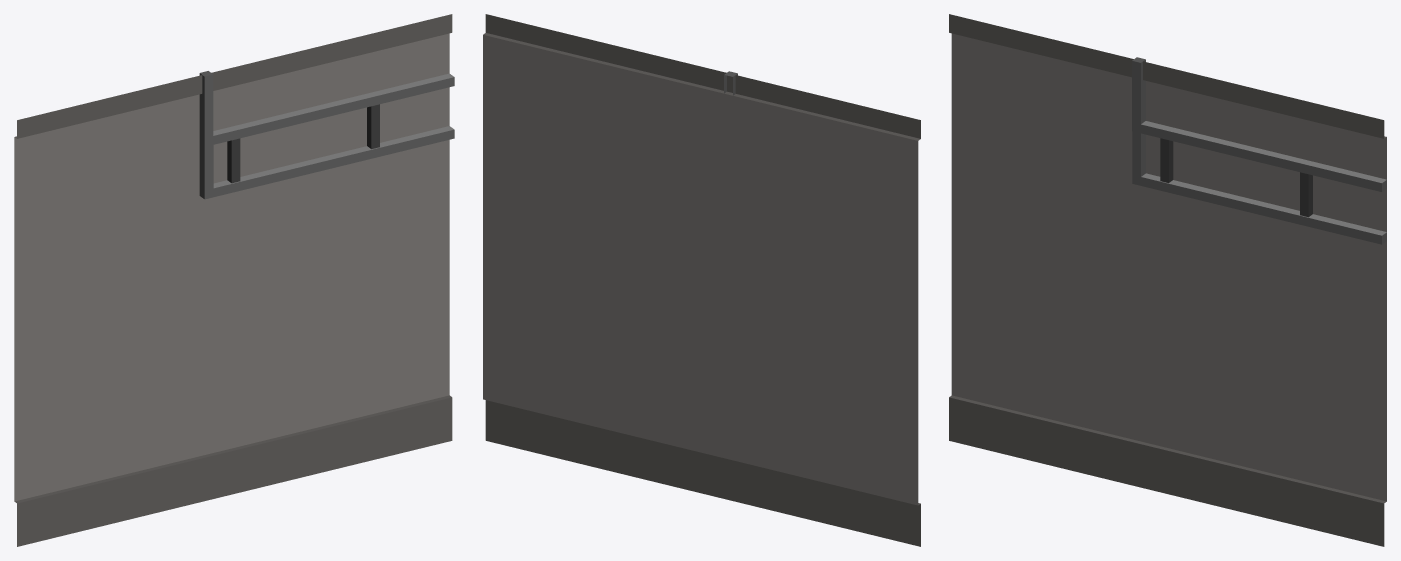
The model's file is AI_Env_Wall_Grey_Electronics_Start.fbx.
3 renders of one model, left to right at view 1: azimuth 30°, elevation 25°; view 2: azimuth 150°, elevation 25°; view 3: azimuth 330°, elevation 25°, orthographic.
Parts seen in each view (by area): view 1: AI_Env_Wall_Grey_Electronics_Start; view 2: AI_Env_Wall_Grey_Electronics_Start; view 3: AI_Env_Wall_Grey_Electronics_Start.
Part boxes in pixels (bbox=[...]): AI_Env_Wall_Grey_Electronics_Start: bbox=[14, 14, 454, 546]; AI_Env_Wall_Grey_Electronics_Start: bbox=[483, 14, 920, 546]; AI_Env_Wall_Grey_Electronics_Start: bbox=[949, 14, 1386, 546].
Size of the model in its own units: 5 by 4.69 by 0.0984.
